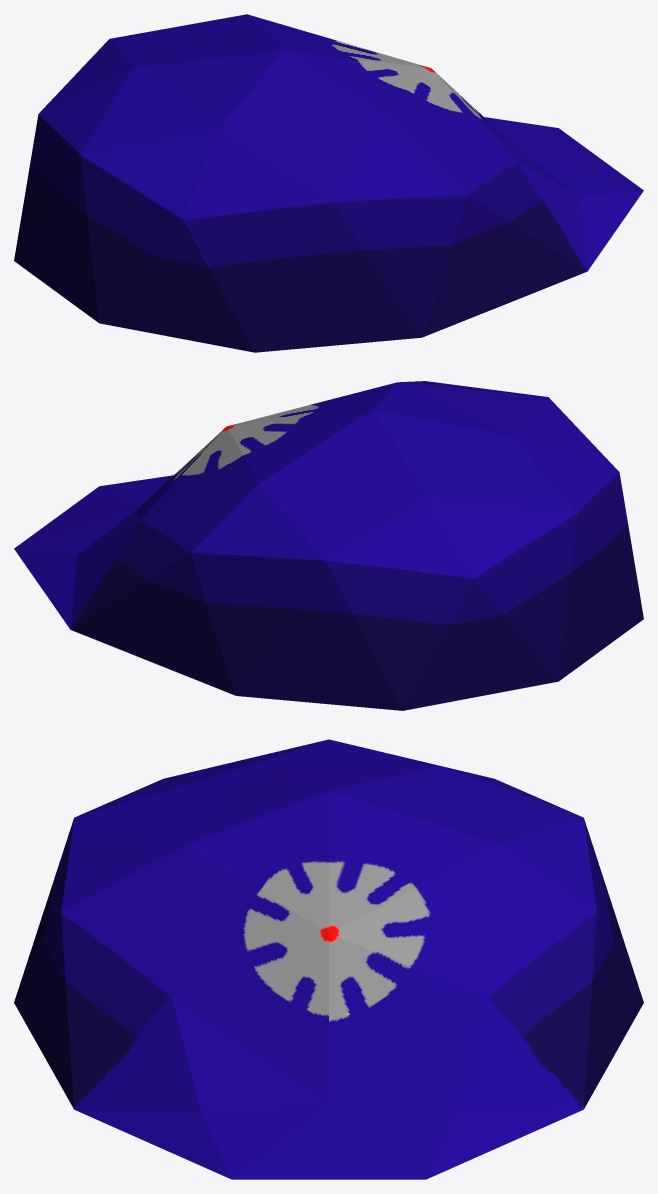
The model's file is patrolHat.obj.
3 views of the same model, one above another, from view 1: azimuth 30°, elevation 25°; view 2: azimuth 150°, elevation 25°; view 3: azimuth 270°, elevation 25° (orthographic). The views are drawn at different scales.
Parts seen in each view (by area): view 1: ICO球; view 2: ICO球; view 3: ICO球.
Part boxes in pixels (x1=…): ICO球: x1=14, y1=14, x2=643, y2=352; ICO球: x1=14, y1=381, x2=643, y2=710; ICO球: x1=14, y1=739, x2=643, y2=1179.
Bounding box in the file's own units: 2.28 × 0.7413 × 2.
1 material, 1 textured.
